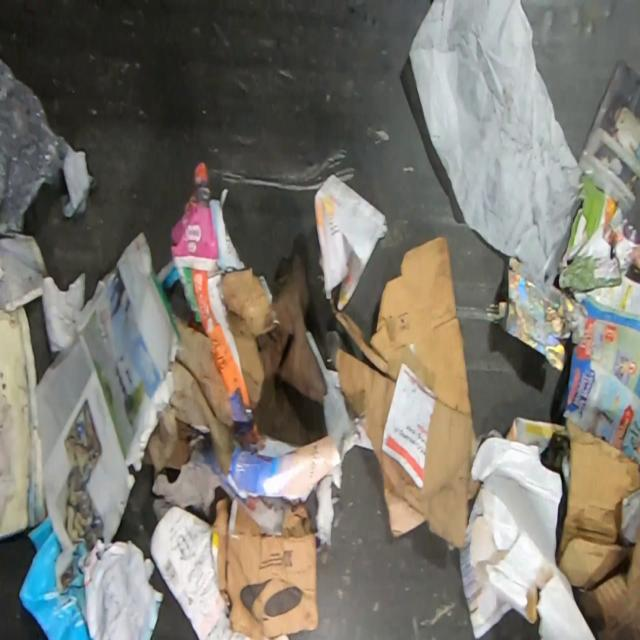cardboard: (36, 229, 185, 592), (328, 234, 480, 549), (212, 495, 319, 640), (558, 273, 640, 461), (143, 317, 236, 477), (555, 416, 640, 589), (484, 256, 574, 371), (220, 265, 279, 411), (573, 540, 640, 640)
rigid_plastic: (186, 160, 212, 207)
soft_plastic: (0, 57, 69, 236)
